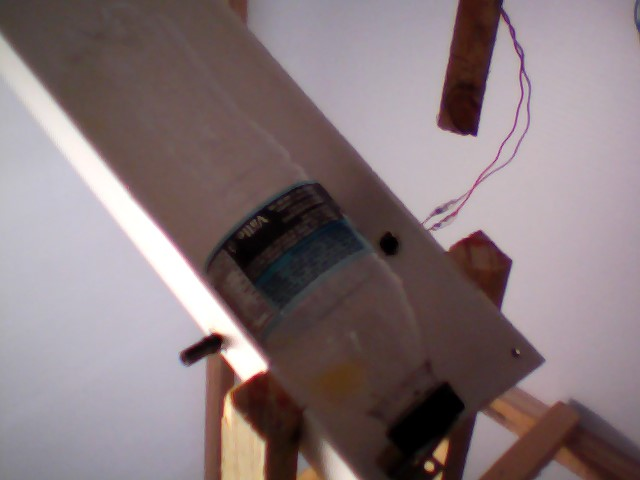plastico: (42, 2, 469, 462)
